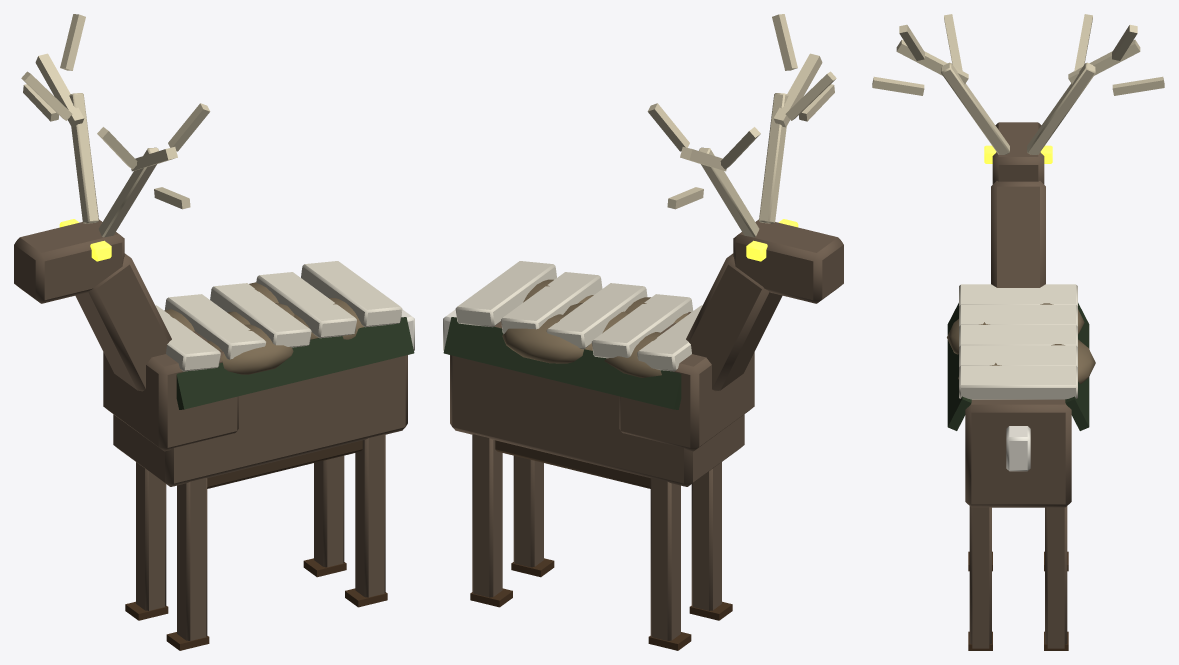
Rendered from stag.glb.
3 views of the same model, side by side, from view 1: azimuth 30°, elevation 25°; view 2: azimuth 150°, elevation 25°; view 3: azimuth 270°, elevation 25° (orthographic). The views are drawn at different scales.
Visible parts, largest first — view 1: body, armorMelee, antlers, armorRanged, head, neck, legFL, legBL, legFR, legBR, armorFire; view 2: body, armorMelee, antlers, head, neck, armorRanged, legFR, legBR, legFL, armorFire, legBL; view 3: armorMelee, body, antlers, neck, legBL, legBR, head, armorRanged, tail, armorFire.
Boxes of the visible parts, bbox=[...] form: body: bbox=[103, 331, 407, 488]; armorMelee: bbox=[155, 261, 402, 371]; antlers: bbox=[21, 14, 210, 237]; armorRanged: bbox=[176, 317, 414, 409]; head: bbox=[14, 219, 124, 303]; neck: bbox=[75, 253, 171, 391]; legFL: bbox=[166, 478, 209, 650]; legBL: bbox=[345, 434, 387, 607]; legFR: bbox=[125, 462, 168, 620]; legBR: bbox=[303, 455, 346, 577]; armorFire: bbox=[164, 282, 363, 374]; body: bbox=[450, 312, 754, 488]; armorMelee: bbox=[455, 261, 702, 371]; antlers: bbox=[647, 14, 836, 237]; head: bbox=[733, 219, 843, 303]; neck: bbox=[686, 253, 782, 391]; armorRanged: bbox=[443, 317, 681, 409]; legFR: bbox=[648, 478, 691, 650]; legBR: bbox=[470, 434, 512, 607]; legFL: bbox=[689, 462, 732, 620]; armorFire: bbox=[501, 279, 687, 377]; legBL: bbox=[511, 455, 554, 577]; armorMelee: bbox=[959, 284, 1077, 399]; body: bbox=[965, 399, 1071, 507]; antlers: bbox=[872, 14, 1164, 154]; neck: bbox=[991, 181, 1045, 287]; legBL: bbox=[968, 506, 992, 650]; legBR: bbox=[1044, 506, 1068, 650]; head: bbox=[984, 122, 1052, 184]; armorRanged: bbox=[947, 303, 1089, 430]; tail: bbox=[1006, 426, 1030, 471]; armorFire: bbox=[947, 303, 1095, 383].
Size of the model in its own units: 2.37 by 3.39 by 1.7.
